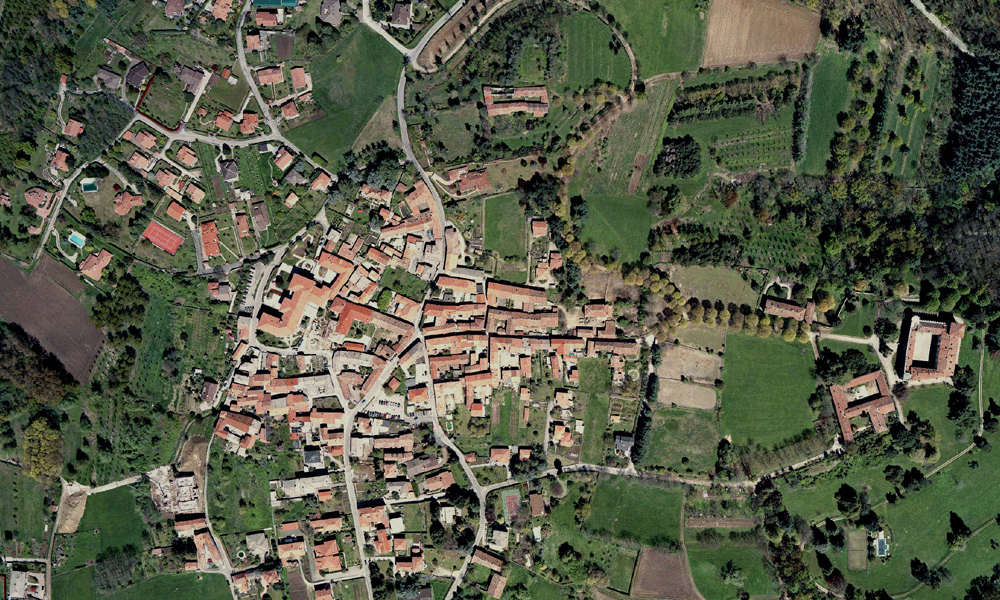person: (484, 86, 552, 113)
